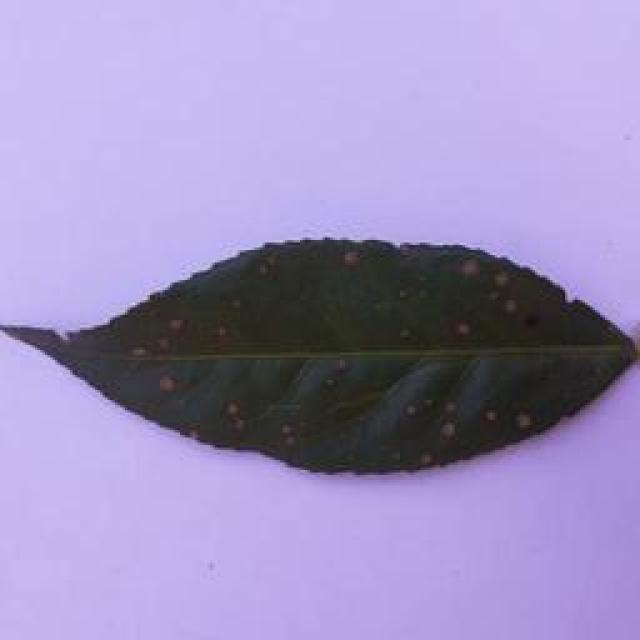Algal Leaf Spot: (2, 225, 640, 469)
